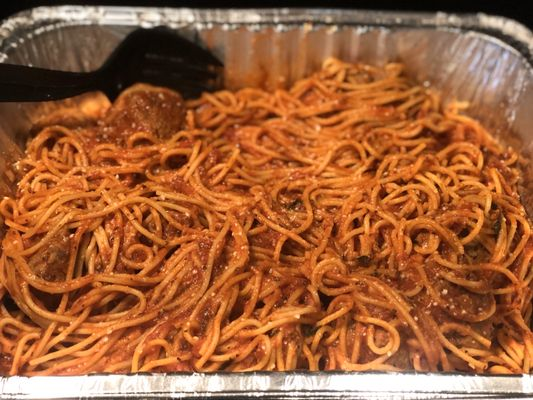burger: (0, 27, 227, 106)
